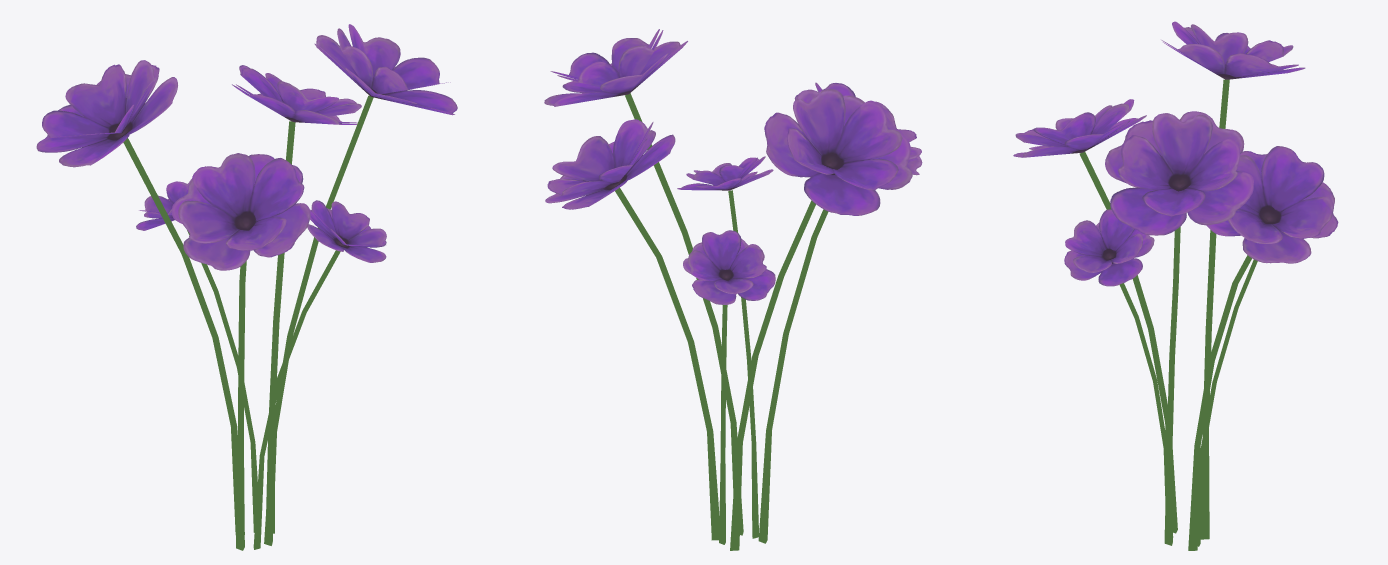
The model's file is MEADOW_SM_Flower_02_02.gltf.
3 views of the same model, side by side, from view 1: azimuth 30°, elevation 25°; view 2: azimuth 150°, elevation 25°; view 3: azimuth 270°, elevation 25° (orthographic). The views are drawn at different scales.
Visible parts, largest first — view 1: SM_Flower_02_02_LOD0; view 2: SM_Flower_02_02_LOD0; view 3: SM_Flower_02_02_LOD0.
Part boxes in pixels (x1,y1,x2,y2): SM_Flower_02_02_LOD0: (36, 24, 457, 550); SM_Flower_02_02_LOD0: (544, 29, 922, 550); SM_Flower_02_02_LOD0: (1013, 21, 1338, 550).
Bounding box in the file's own units: 0.6047 × 0.7223 × 0.5187.
Materials: 1 (1 with a texture image).
